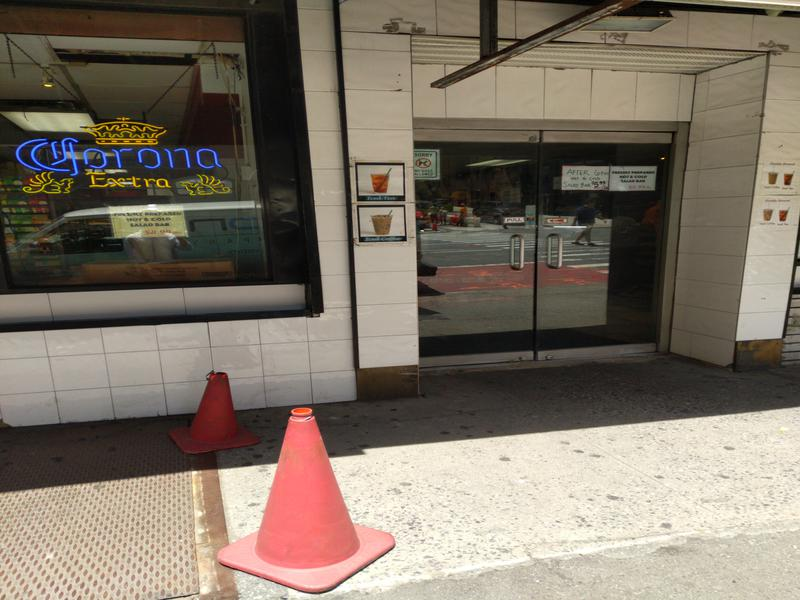double_door: (410, 116, 690, 371)
